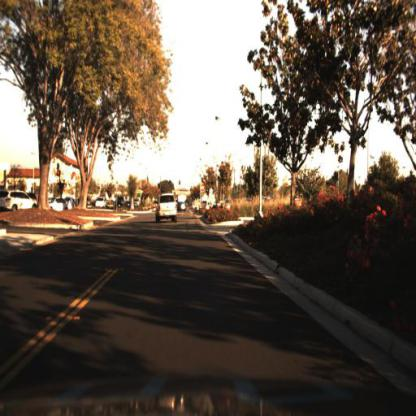car: (1, 189, 35, 215), (46, 193, 71, 219), (115, 194, 129, 214), (94, 195, 110, 212), (131, 195, 142, 213), (124, 196, 135, 212), (178, 199, 189, 213)
